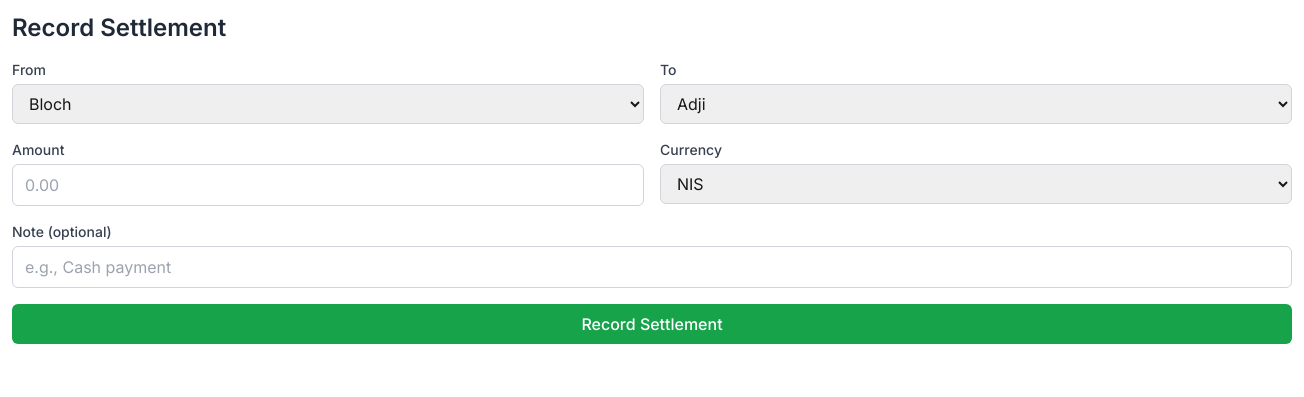
User Flow: Settlement Form › should show warning when from equals to
Step 1. Select "Bloch" in the dropdown below "From" → x=328, y=104, box [12,84,644,124]
Step 2. Select "Bloch" in the dropdown below "To" → x=976, y=104, box [660,84,1292,124]
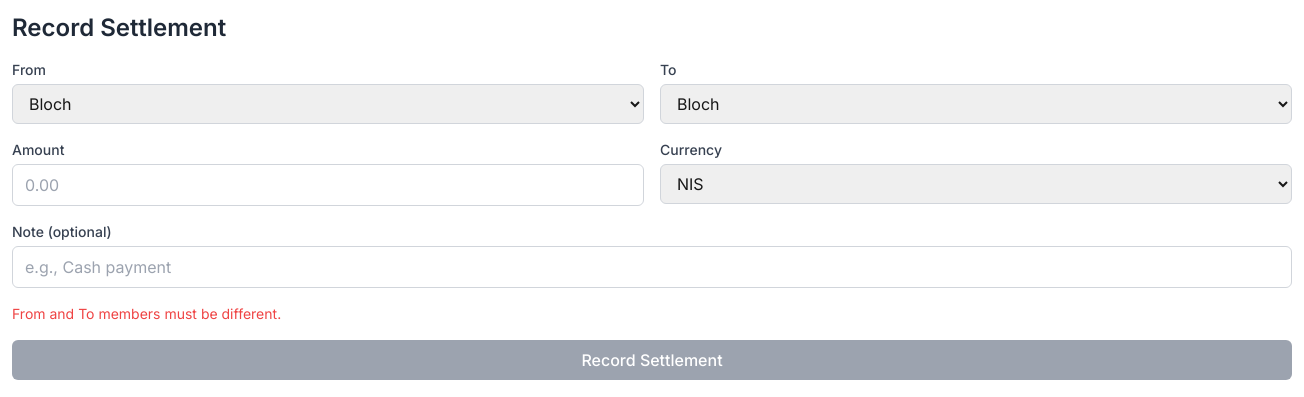
Check: the text "From and To members must be different." is shown, box [12,305,281,322]
Check: the button "Record Settlement" is disabled, box [12,340,1292,380]
